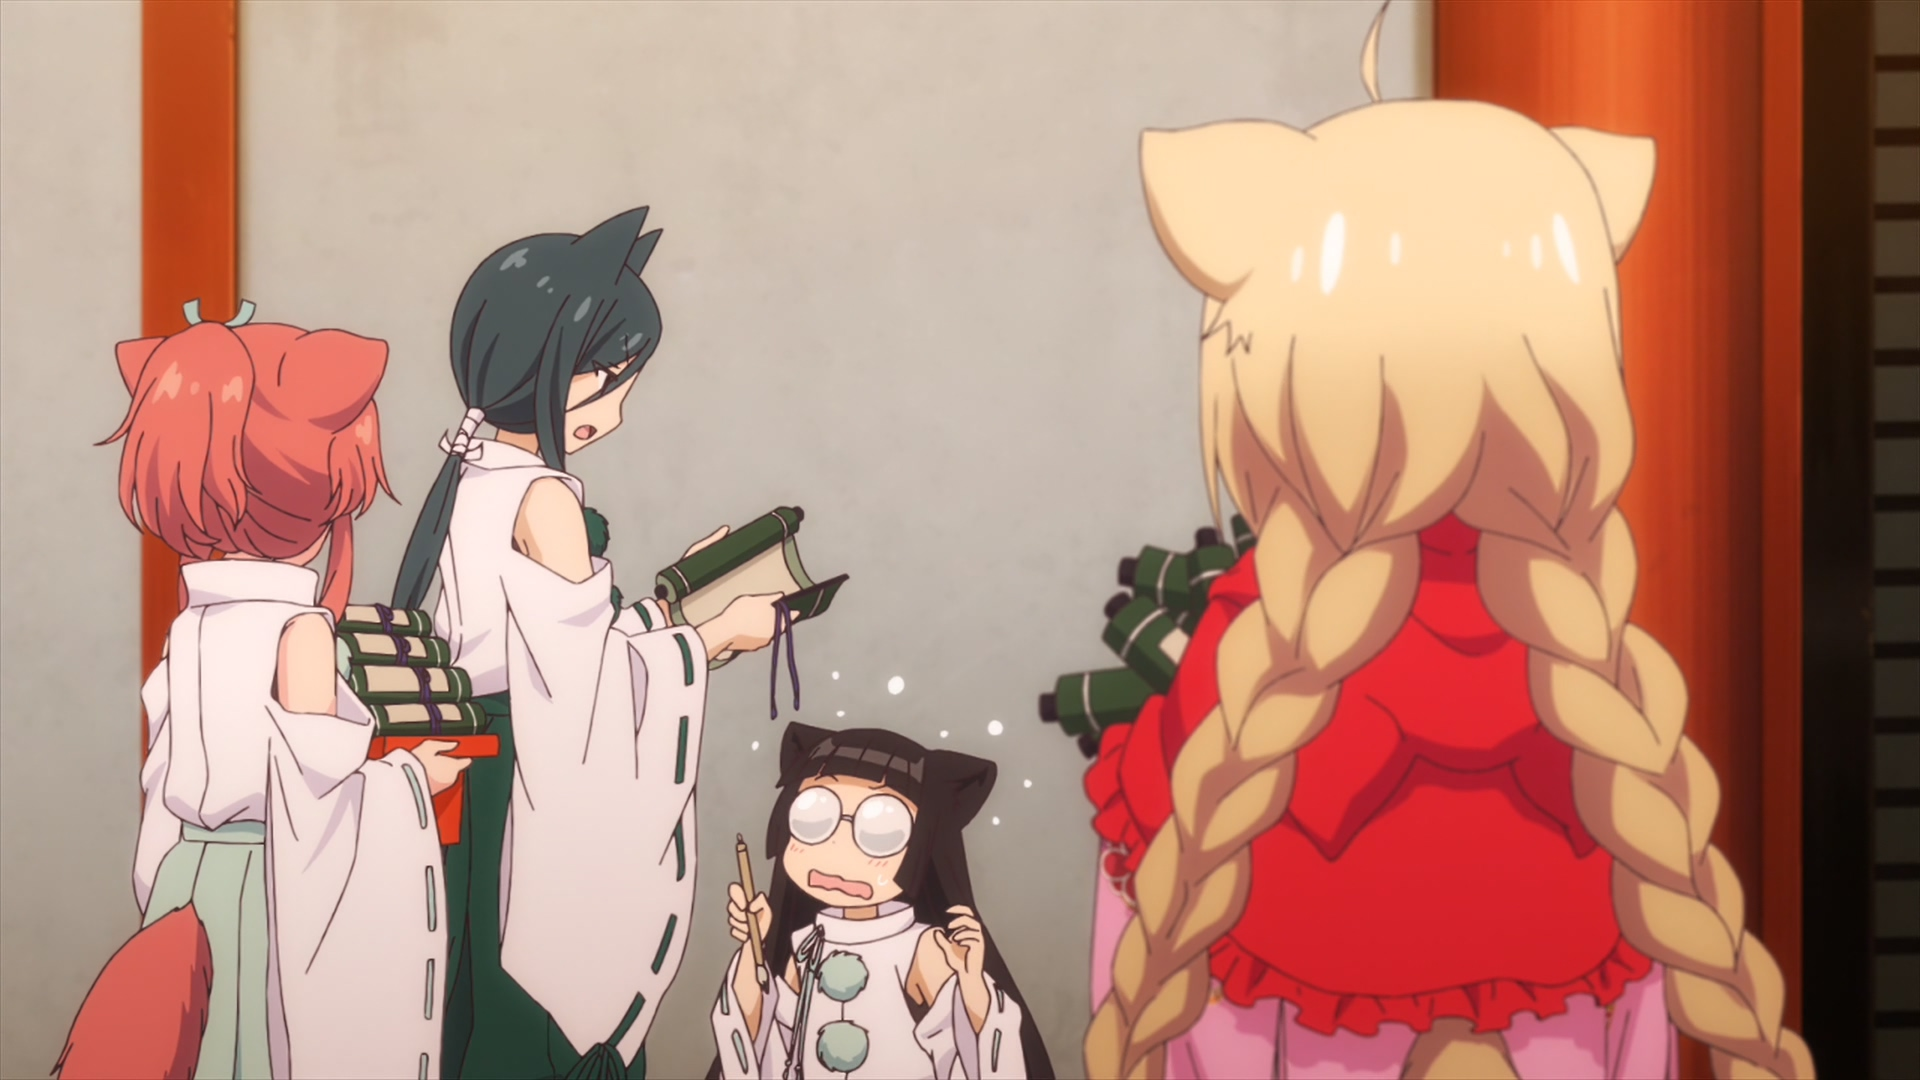其他: (386, 204, 800, 1080), (705, 720, 1052, 1080)
柚: (1083, 1, 1813, 1080)
椿: (55, 297, 473, 1080)
